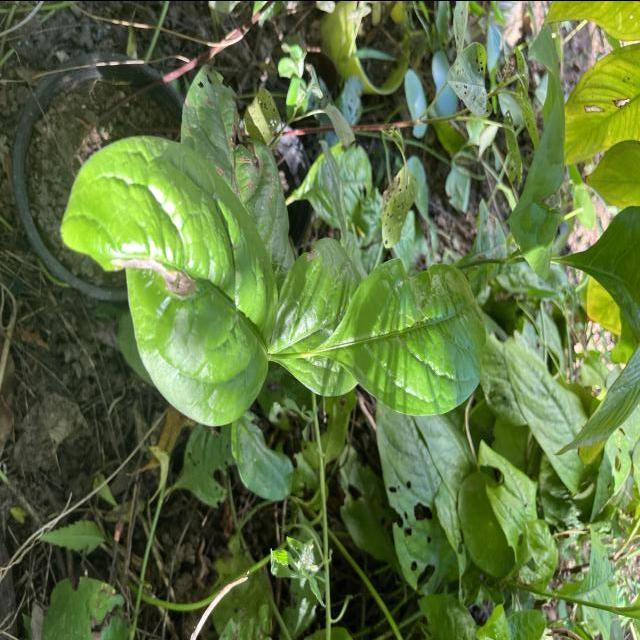Plumbago indica: (56, 130, 282, 428), (309, 255, 489, 418)
